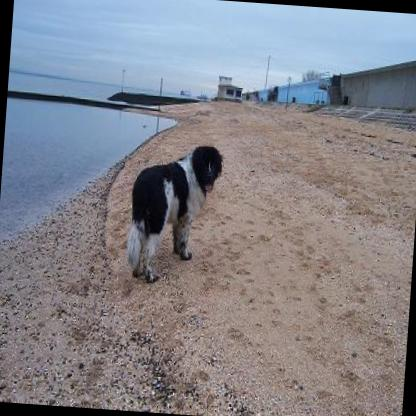Newfoundland: (119, 126, 228, 292)
